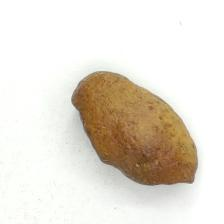NG: (72, 99, 147, 186)
